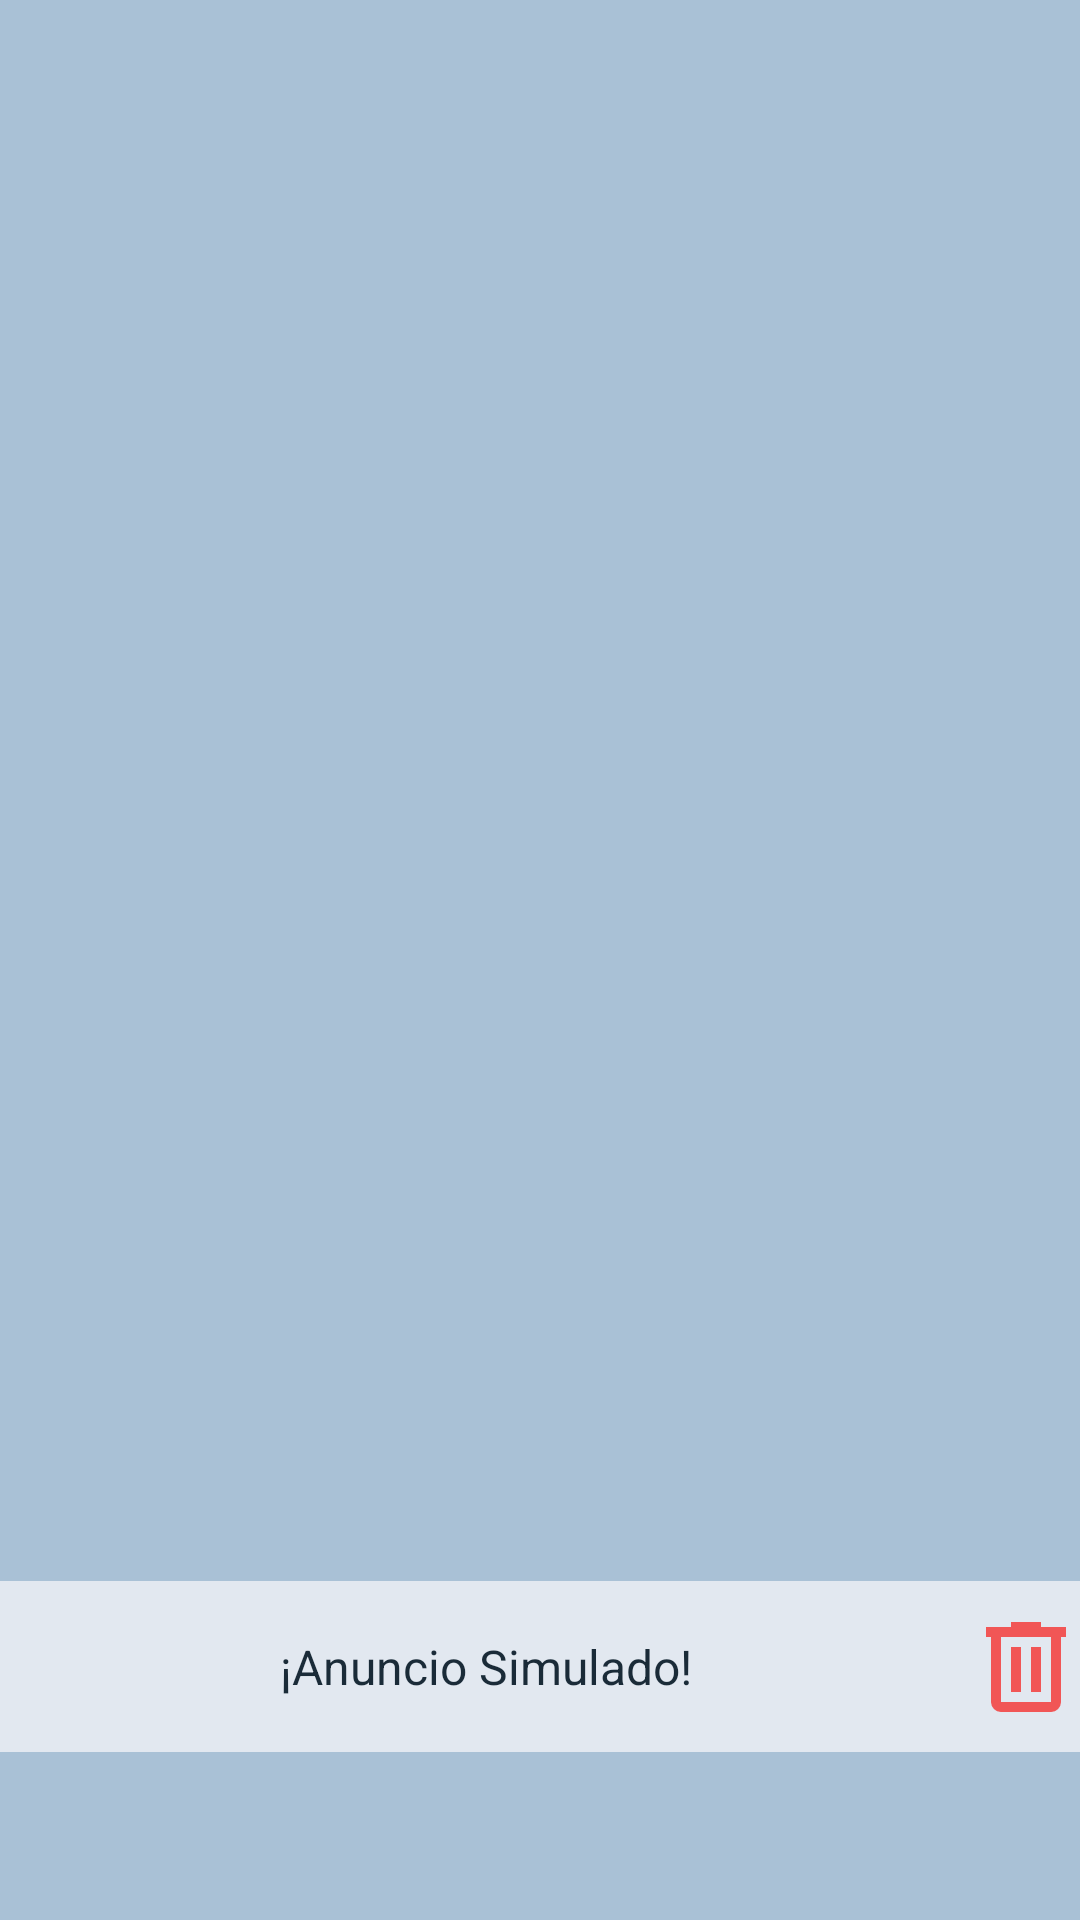

Locate icon controls on the screen. Image size 1080*1920, boxes as (x1, y1, x2, y2).
delete: (986, 1622, 1066, 1712)
